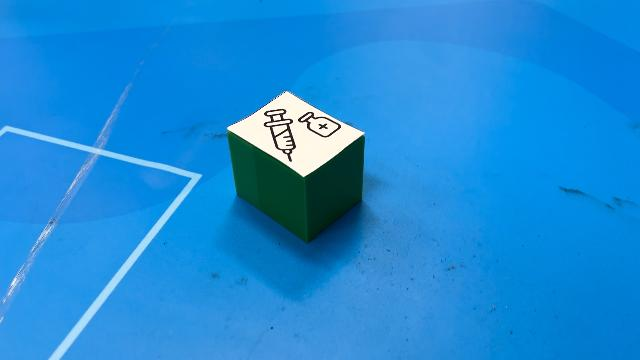syringe: (228, 93, 366, 245)
